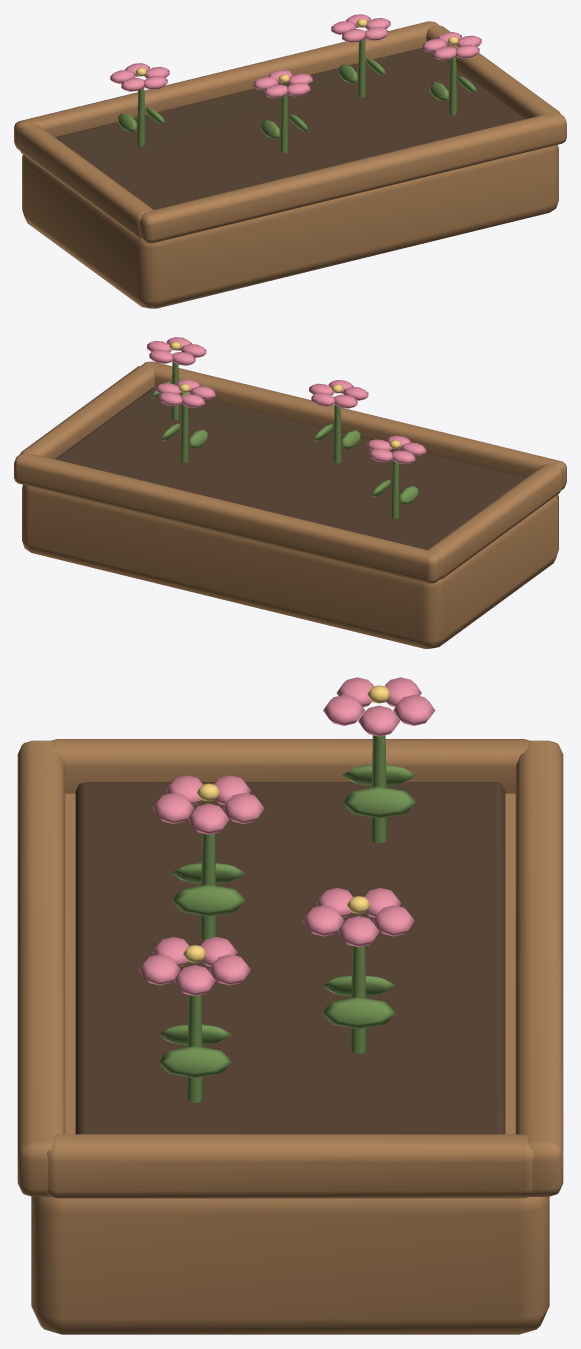
Rendered from quest_flowerbed_bloom.glb.
The picture shows the model from 3 angles, top to bottom: view 1: azimuth 30°, elevation 25°; view 2: azimuth 150°, elevation 25°; view 3: azimuth 270°, elevation 25°; orthographic projection. The views are drawn at different scales.
Bounding box in the file's own units: 1.44 × 0.5355 × 0.8.
